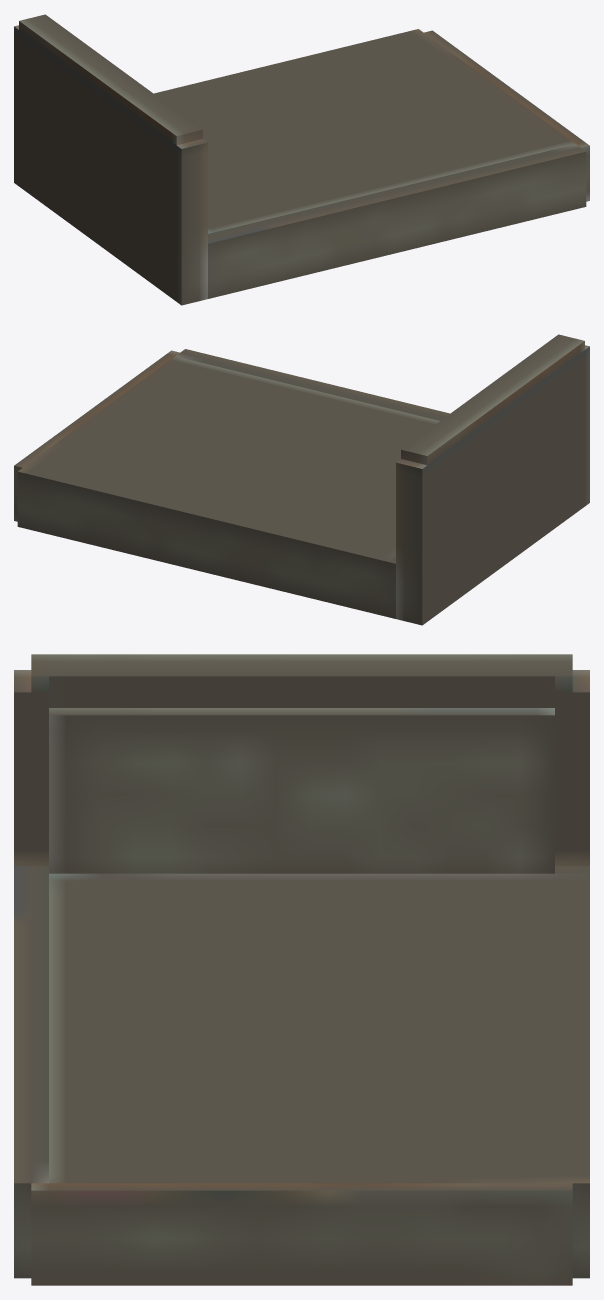
Rendered from BedFrameDarkBrown_00.obj.
The picture shows the model from 3 angles, top to bottom: view 1: azimuth 30°, elevation 25°; view 2: azimuth 150°, elevation 25°; view 3: azimuth 270°, elevation 25°; orthographic projection. The views are drawn at different scales.
Visible parts, largest first — view 1: BedFrameDarkBrown_00; view 2: BedFrameDarkBrown_00; view 3: BedFrameDarkBrown_00.
Part boxes in pixels (bbox=[...]): BedFrameDarkBrown_00: bbox=[14, 14, 589, 305]; BedFrameDarkBrown_00: bbox=[14, 334, 589, 625]; BedFrameDarkBrown_00: bbox=[14, 654, 589, 1285].
Size of the model in its own units: 2.35 by 0.9 by 1.65.
